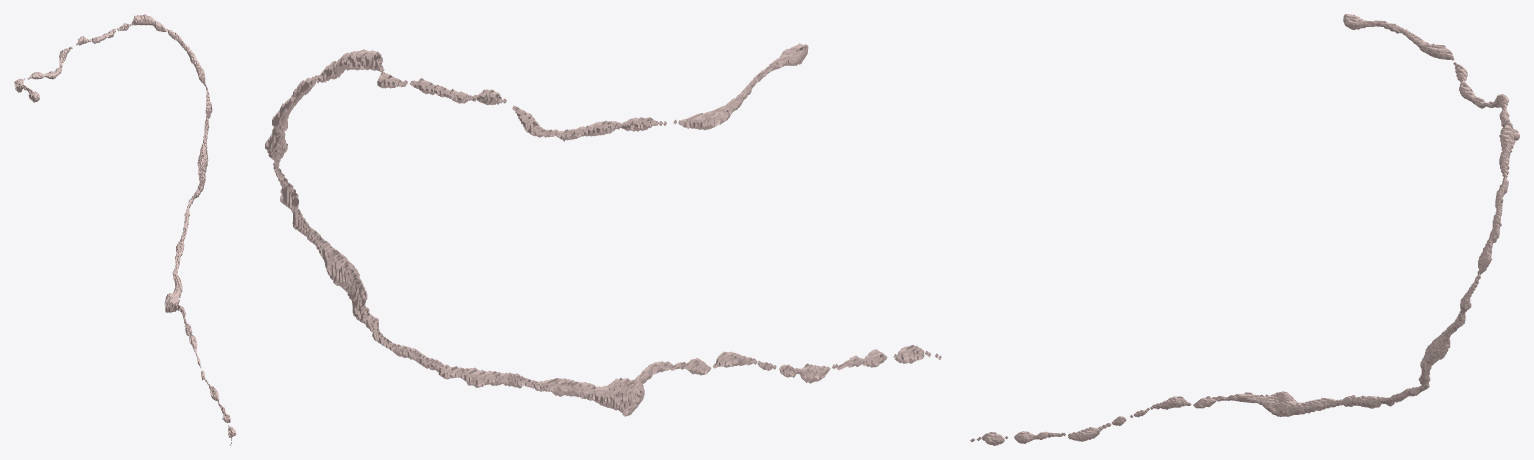
Rendered from SVV_AVHL.gltf.
The picture shows the model from 3 angles, left to right: view 1: azimuth 30°, elevation 25°; view 2: azimuth 150°, elevation 25°; view 3: azimuth 270°, elevation 25°; orthographic projection. The views are drawn at different scales.
Visible parts, largest first — view 1: AVHL; view 2: AVHL; view 3: AVHL.
Boxes of the visible parts, x1,y1,x2,y2 form: AVHL: (14, 14, 236, 445); AVHL: (265, 43, 941, 416); AVHL: (970, 14, 1519, 445).
Size of the model in its own units: 127150 by 148452 by 192940.
